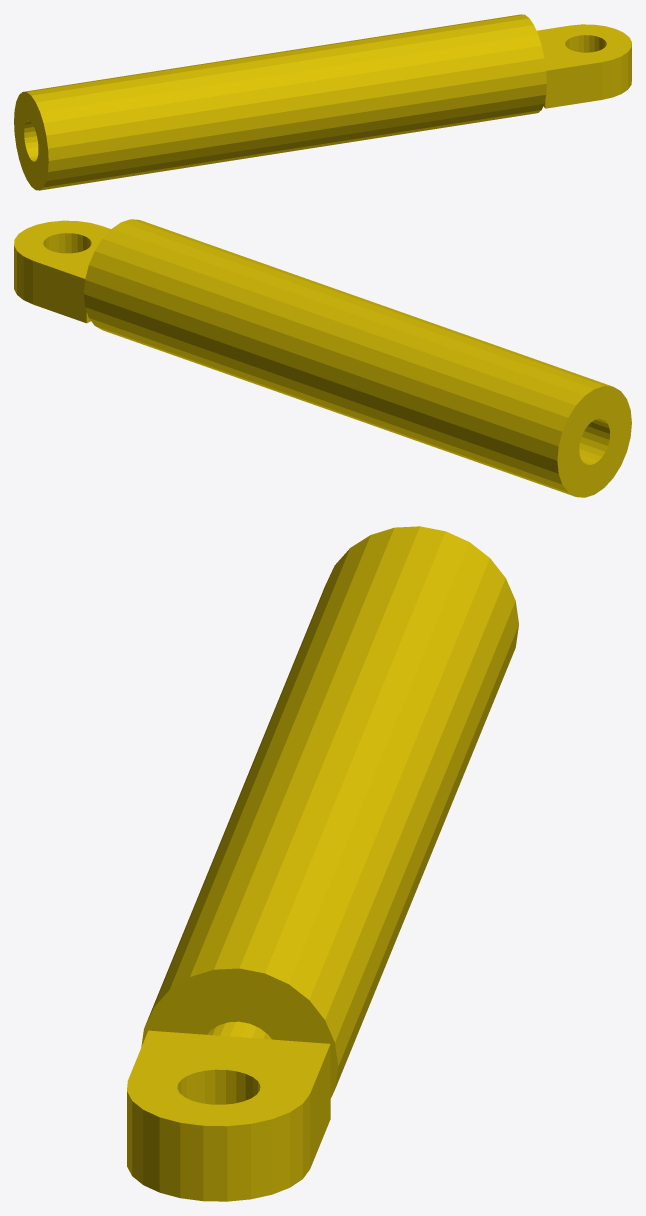
The model's file is huizhuanshensuotong.glb.
3 views of the same model, one above another, from view 1: azimuth 30°, elevation 25°; view 2: azimuth 150°, elevation 25°; view 3: azimuth 270°, elevation 25° (orthographic). The views are drawn at different scales.
Parts seen in each view (by area): view 1: 回转伸缩筒1; view 2: 回转伸缩筒1; view 3: 回转伸缩筒1.
Part boxes in pixels (x1,y1,x2,y2): 回转伸缩筒1: [14, 14, 631, 190]; 回转伸缩筒1: [14, 219, 631, 497]; 回转伸缩筒1: [127, 526, 518, 1201].
Bounding box in the file's own units: 1.38 × 0.217 × 0.4241.
